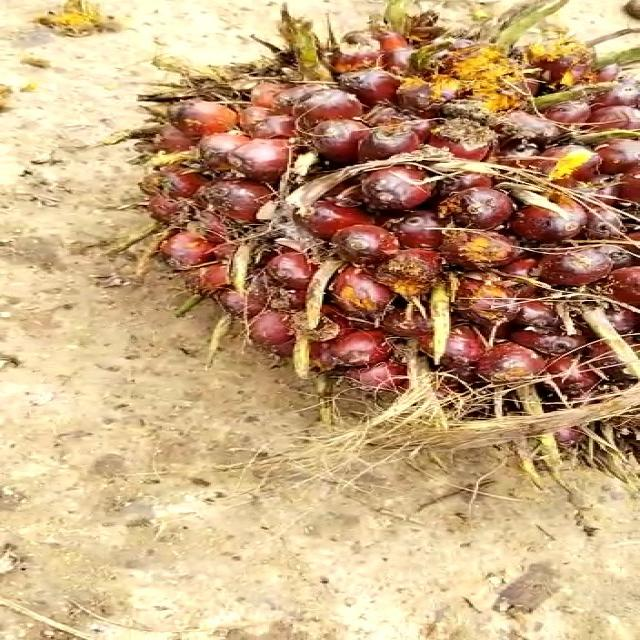palm oil: (128, 1, 640, 486)
